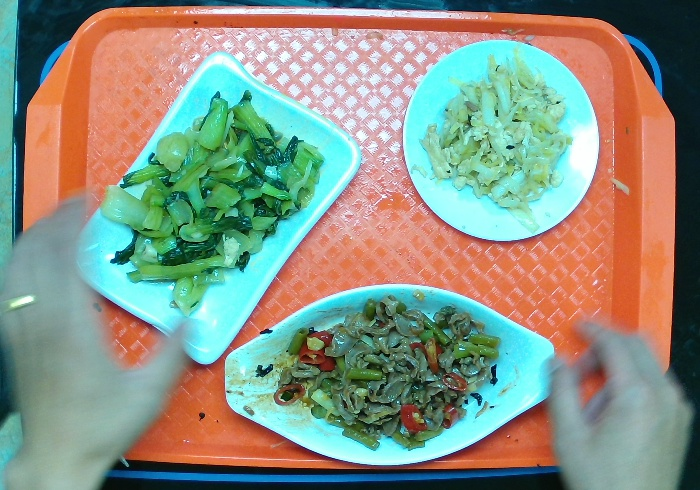RJxy-Si_Fang_Ao_Bian_Wan: (70, 50, 361, 366)
RJxy-Xiao_Yuan_Die: (400, 37, 600, 242)
RJxy-Yu_Pan: (222, 280, 556, 467)
